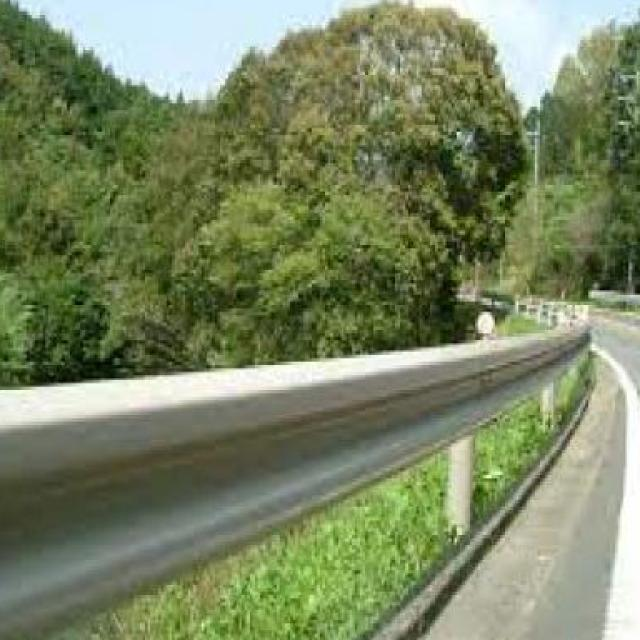Guard rail: (0, 296, 593, 640)
